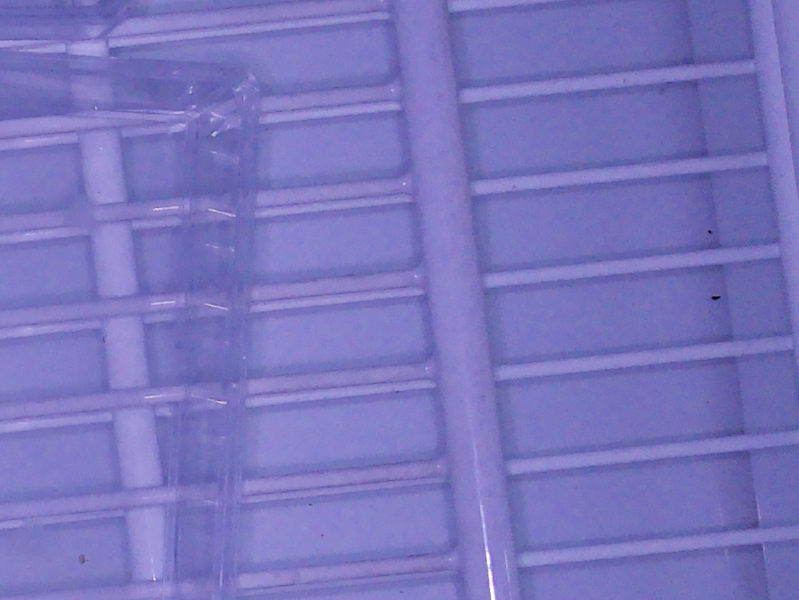plate: (1, 53, 263, 600), (1, 1, 131, 40)
